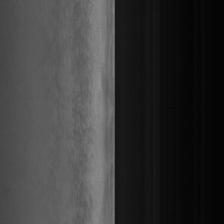silk_spot: (67, 46, 98, 204)
